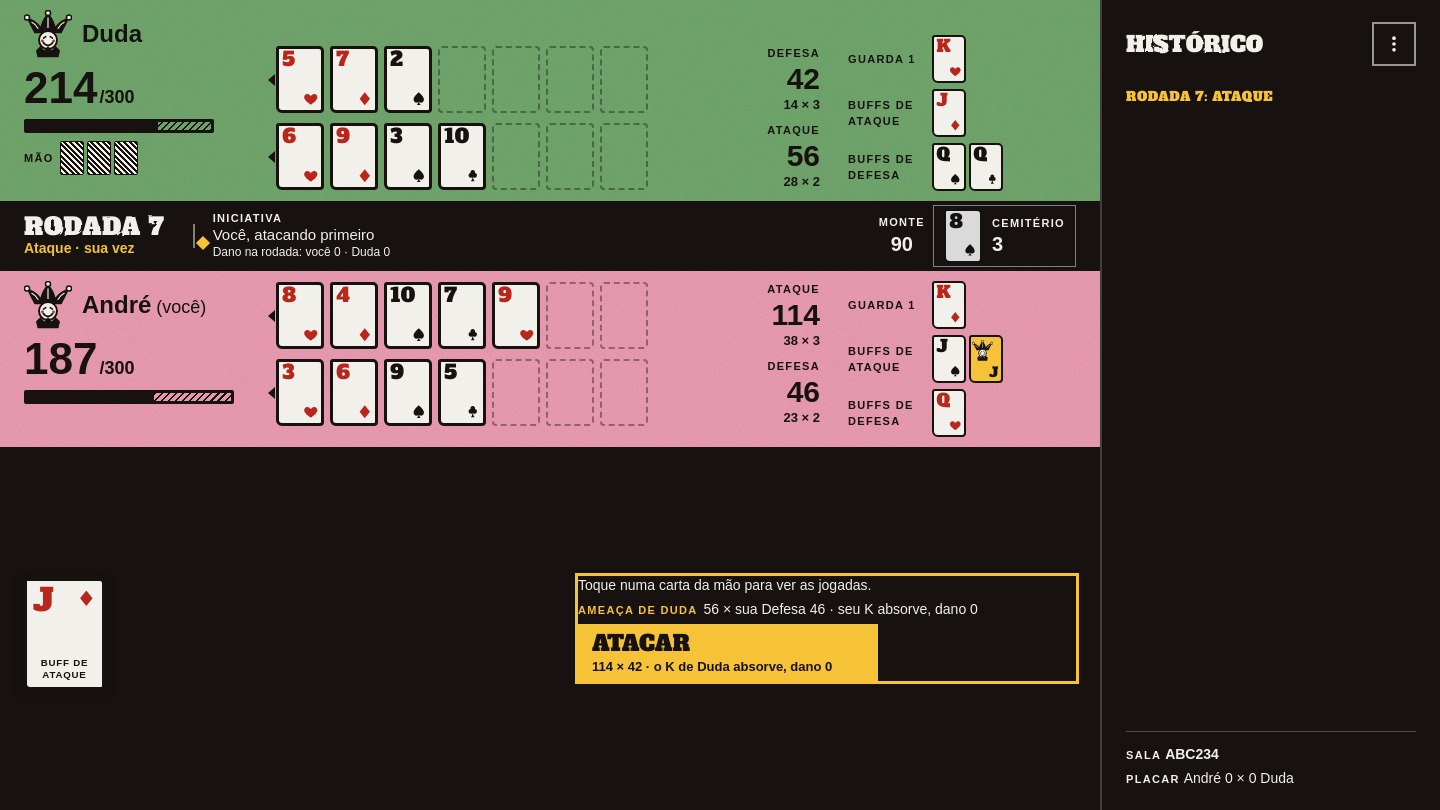
Test: arrastar da mão: a fase principal › a jogada que deixou de valer no meio do arrasto (um state novo) não é mandada, e o fantasma some
Press the mouse on the button with aria-label "J, Buff de ataque, de " at (64, 634), box [24, 578, 105, 690]
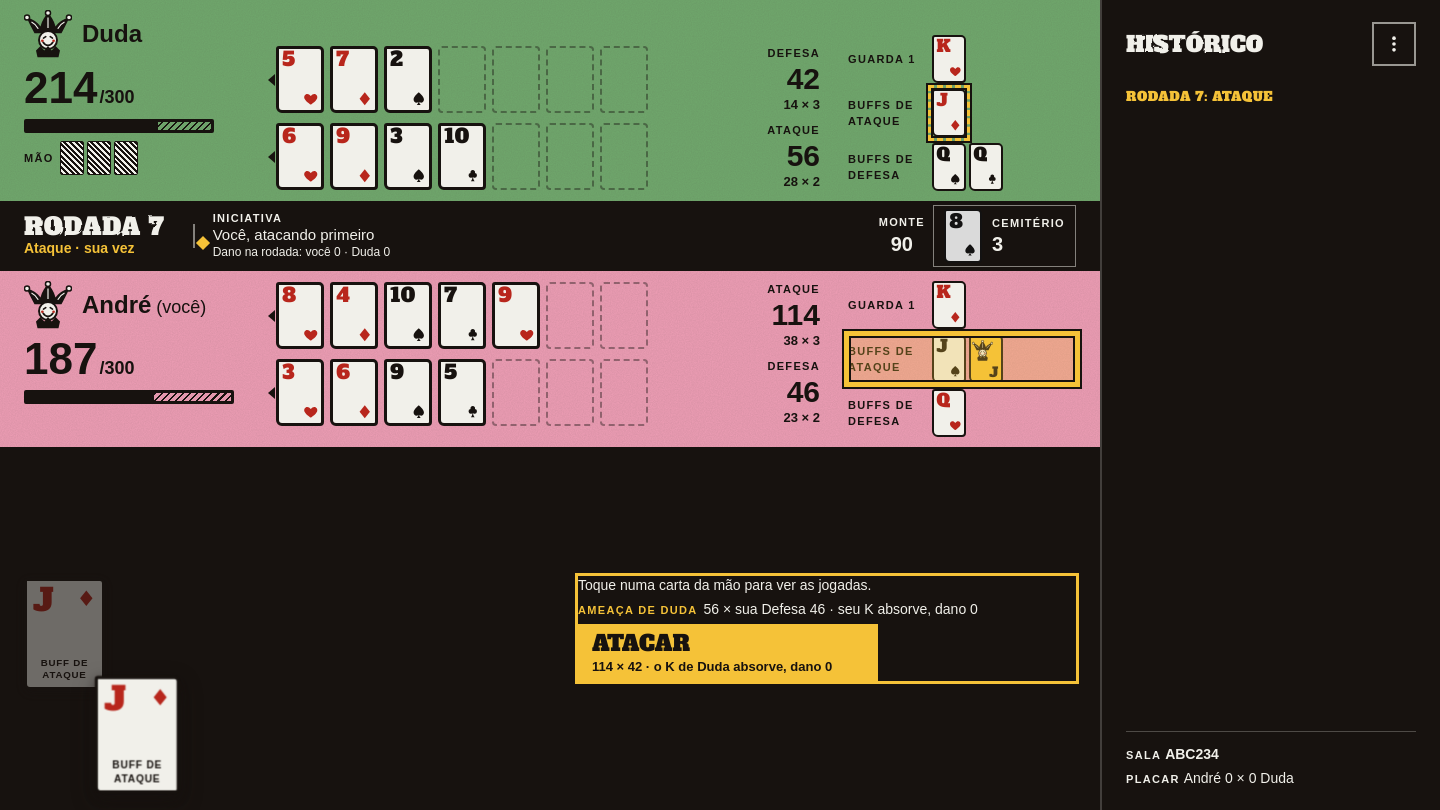
expect the 2nd element showing "J Buff de ataque" is shown: met, box [95, 676, 180, 794]
